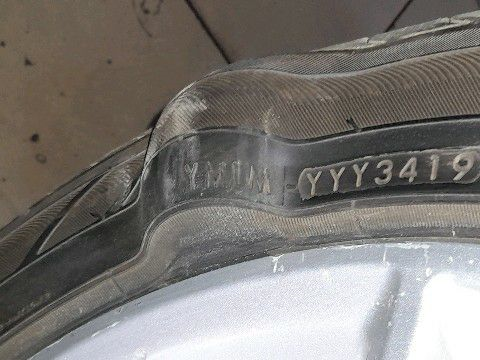CBU: (135, 65, 311, 260)
